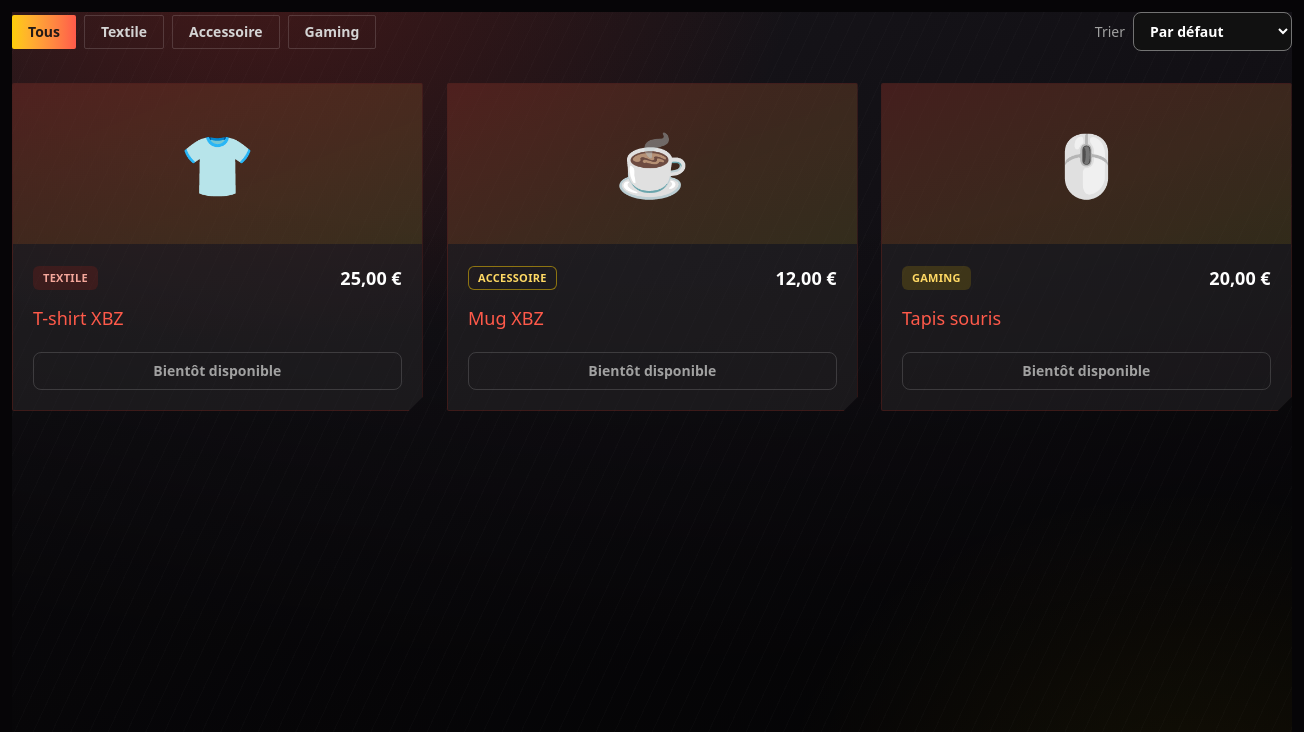
Test case: BoutiqueList › filtre par catégorie via les chips
Click the button "Textile".
click(124, 32)  # box 84,14 -> 164,48
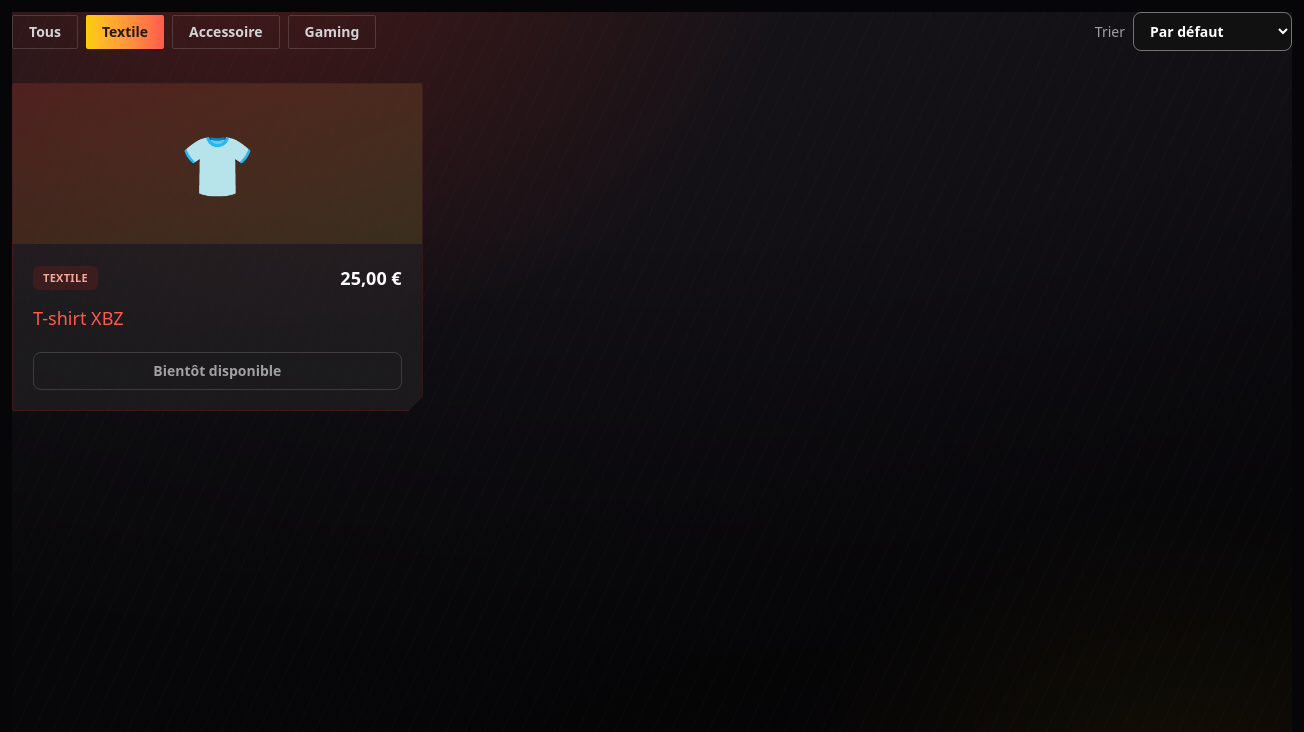
Expected: the link "T-shirt XBZ" is shown, 33,306 -> 124,330
Result: the link "Mug XBZ" is gone
Result: the link "Tapis souris" is gone
